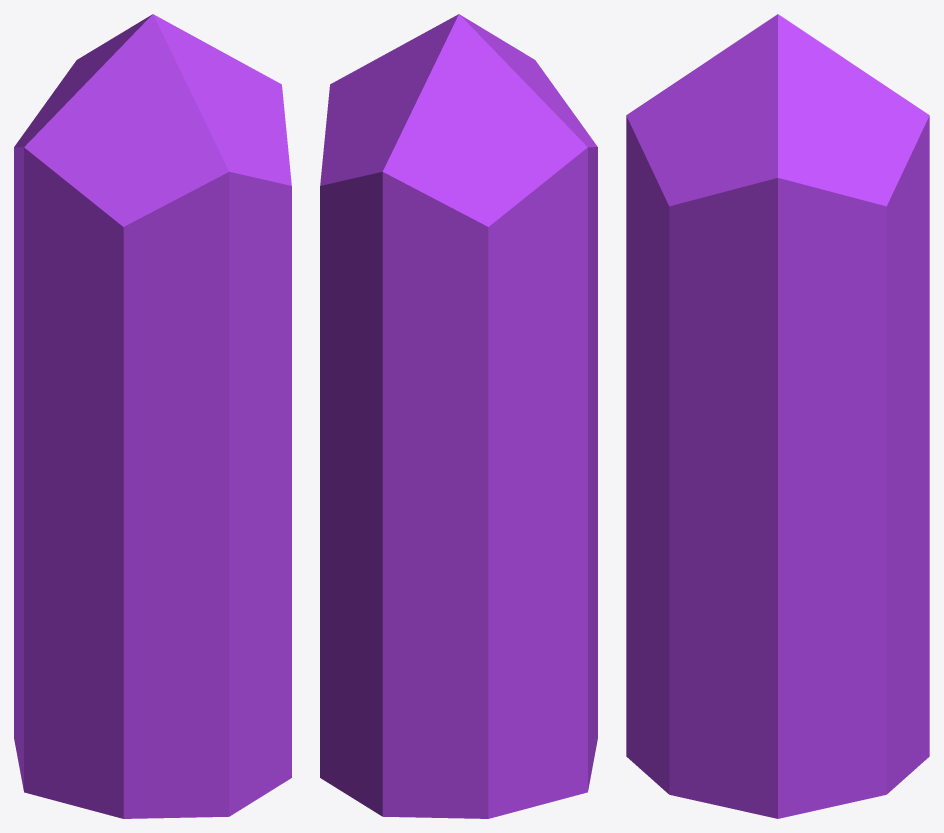
The model's file is BetterCrystal.fbx.
The picture shows the model from 3 angles, left to right: view 1: azimuth 30°, elevation 25°; view 2: azimuth 150°, elevation 25°; view 3: azimuth 270°, elevation 25°; orthographic projection.
Parts seen in each view (by area): view 1: Crystal; view 2: Crystal; view 3: Crystal.
Boxes of the visible parts, bbox=[...] form: Crystal: bbox=[14, 14, 291, 818]; Crystal: bbox=[320, 14, 597, 818]; Crystal: bbox=[626, 14, 929, 818].
Bounding box in the file's own units: 66.99 × 185 × 68.68.
